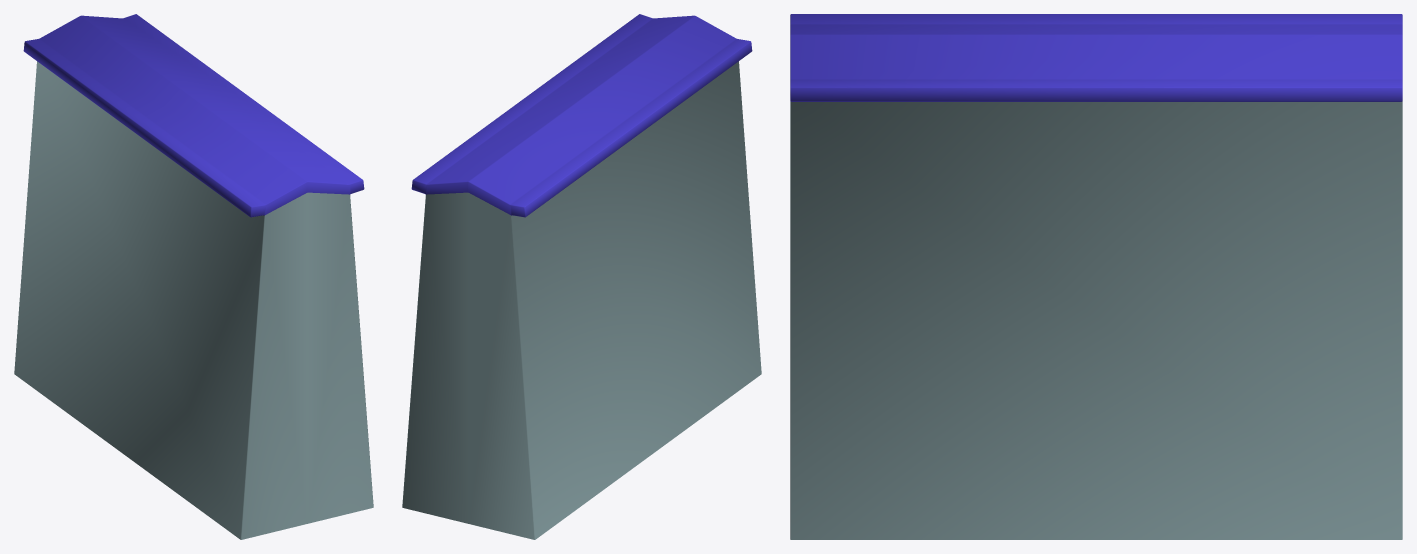
The model's file is SM_Wall01.FBX.
3 renders of one model, left to right at view 1: azimuth 30°, elevation 25°; view 2: azimuth 150°, elevation 25°; view 3: azimuth 270°, elevation 25°, orthographic. The views are drawn at different scales.
Parts seen in each view (by area): view 1: Box002; view 2: Box002; view 3: Box002.
Part boxes in pixels (x1,y1,x2,y2): Box002: [14, 14, 373, 539]; Box002: [402, 14, 761, 539]; Box002: [790, 14, 1402, 539].
Bounding box in the file's own units: 67.7 × 166 × 200.
